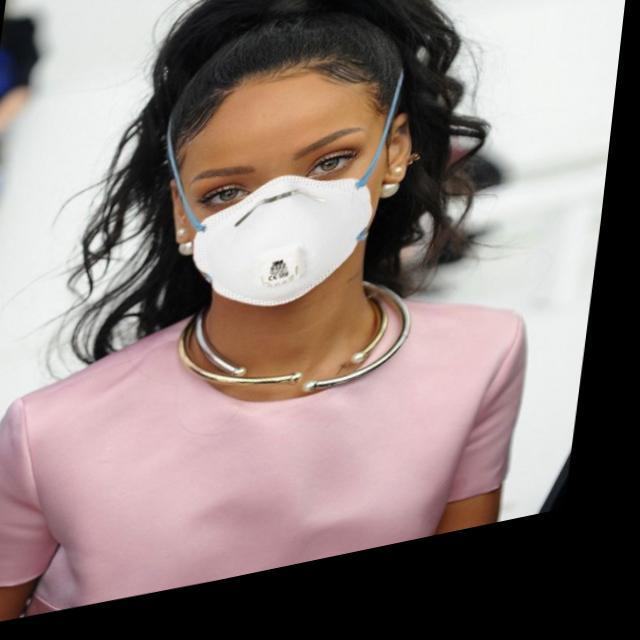Nonhelmet: (130, 1, 432, 326)
